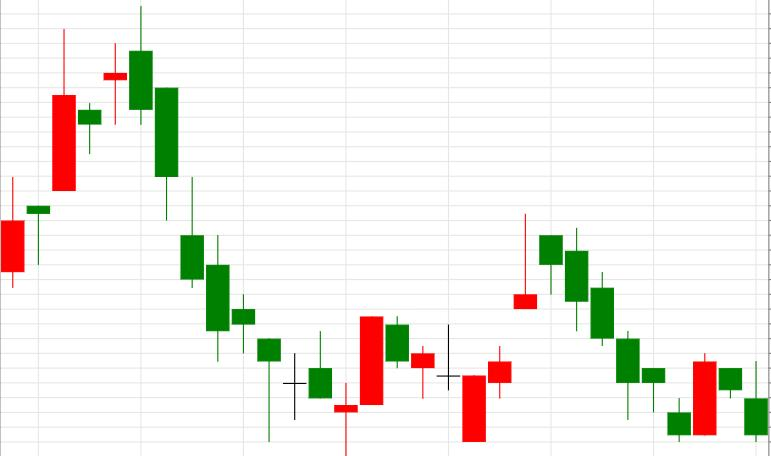morning_star_rise: (129, 6, 384, 456)
